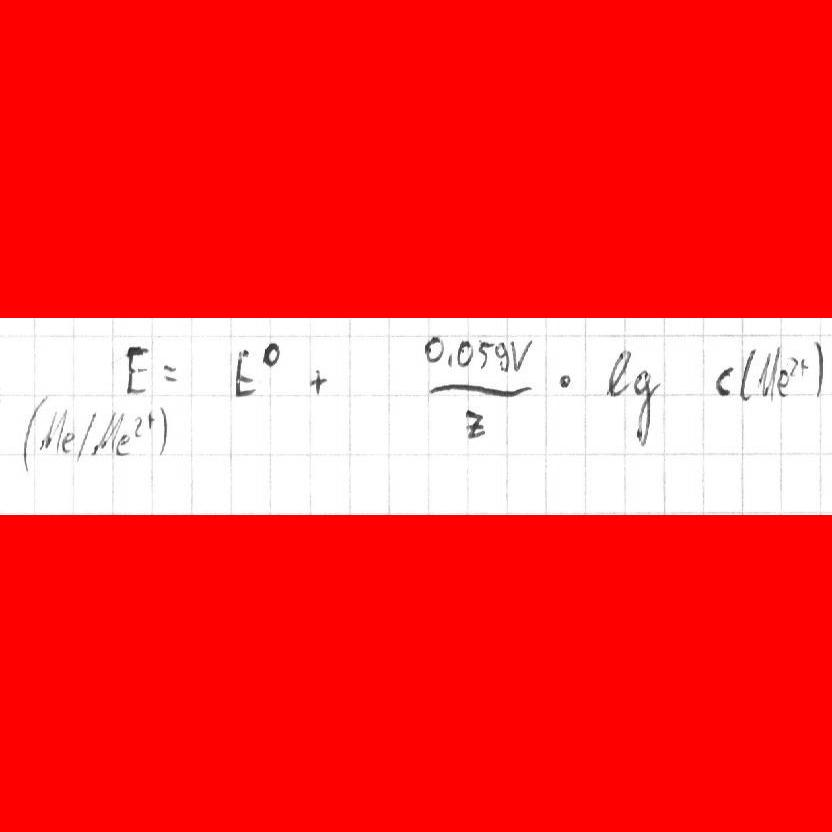Char: (19, 393, 50, 468), (441, 377, 525, 404), (632, 374, 659, 442), (121, 341, 151, 400), (92, 408, 124, 453), (37, 407, 68, 453), (604, 348, 631, 399), (232, 346, 256, 399), (738, 345, 755, 402), (510, 337, 533, 374), (463, 404, 487, 439), (792, 350, 812, 391), (758, 346, 773, 400), (773, 348, 788, 399), (154, 402, 168, 456), (82, 410, 98, 456), (713, 364, 734, 398), (455, 339, 475, 371), (423, 333, 443, 364), (813, 341, 824, 396), (307, 366, 326, 395), (261, 339, 279, 369), (476, 339, 491, 371), (60, 424, 76, 454), (161, 360, 181, 383), (133, 412, 148, 442), (115, 428, 130, 457), (495, 342, 509, 370), (555, 370, 573, 391), (445, 351, 455, 371), (147, 409, 155, 431)
